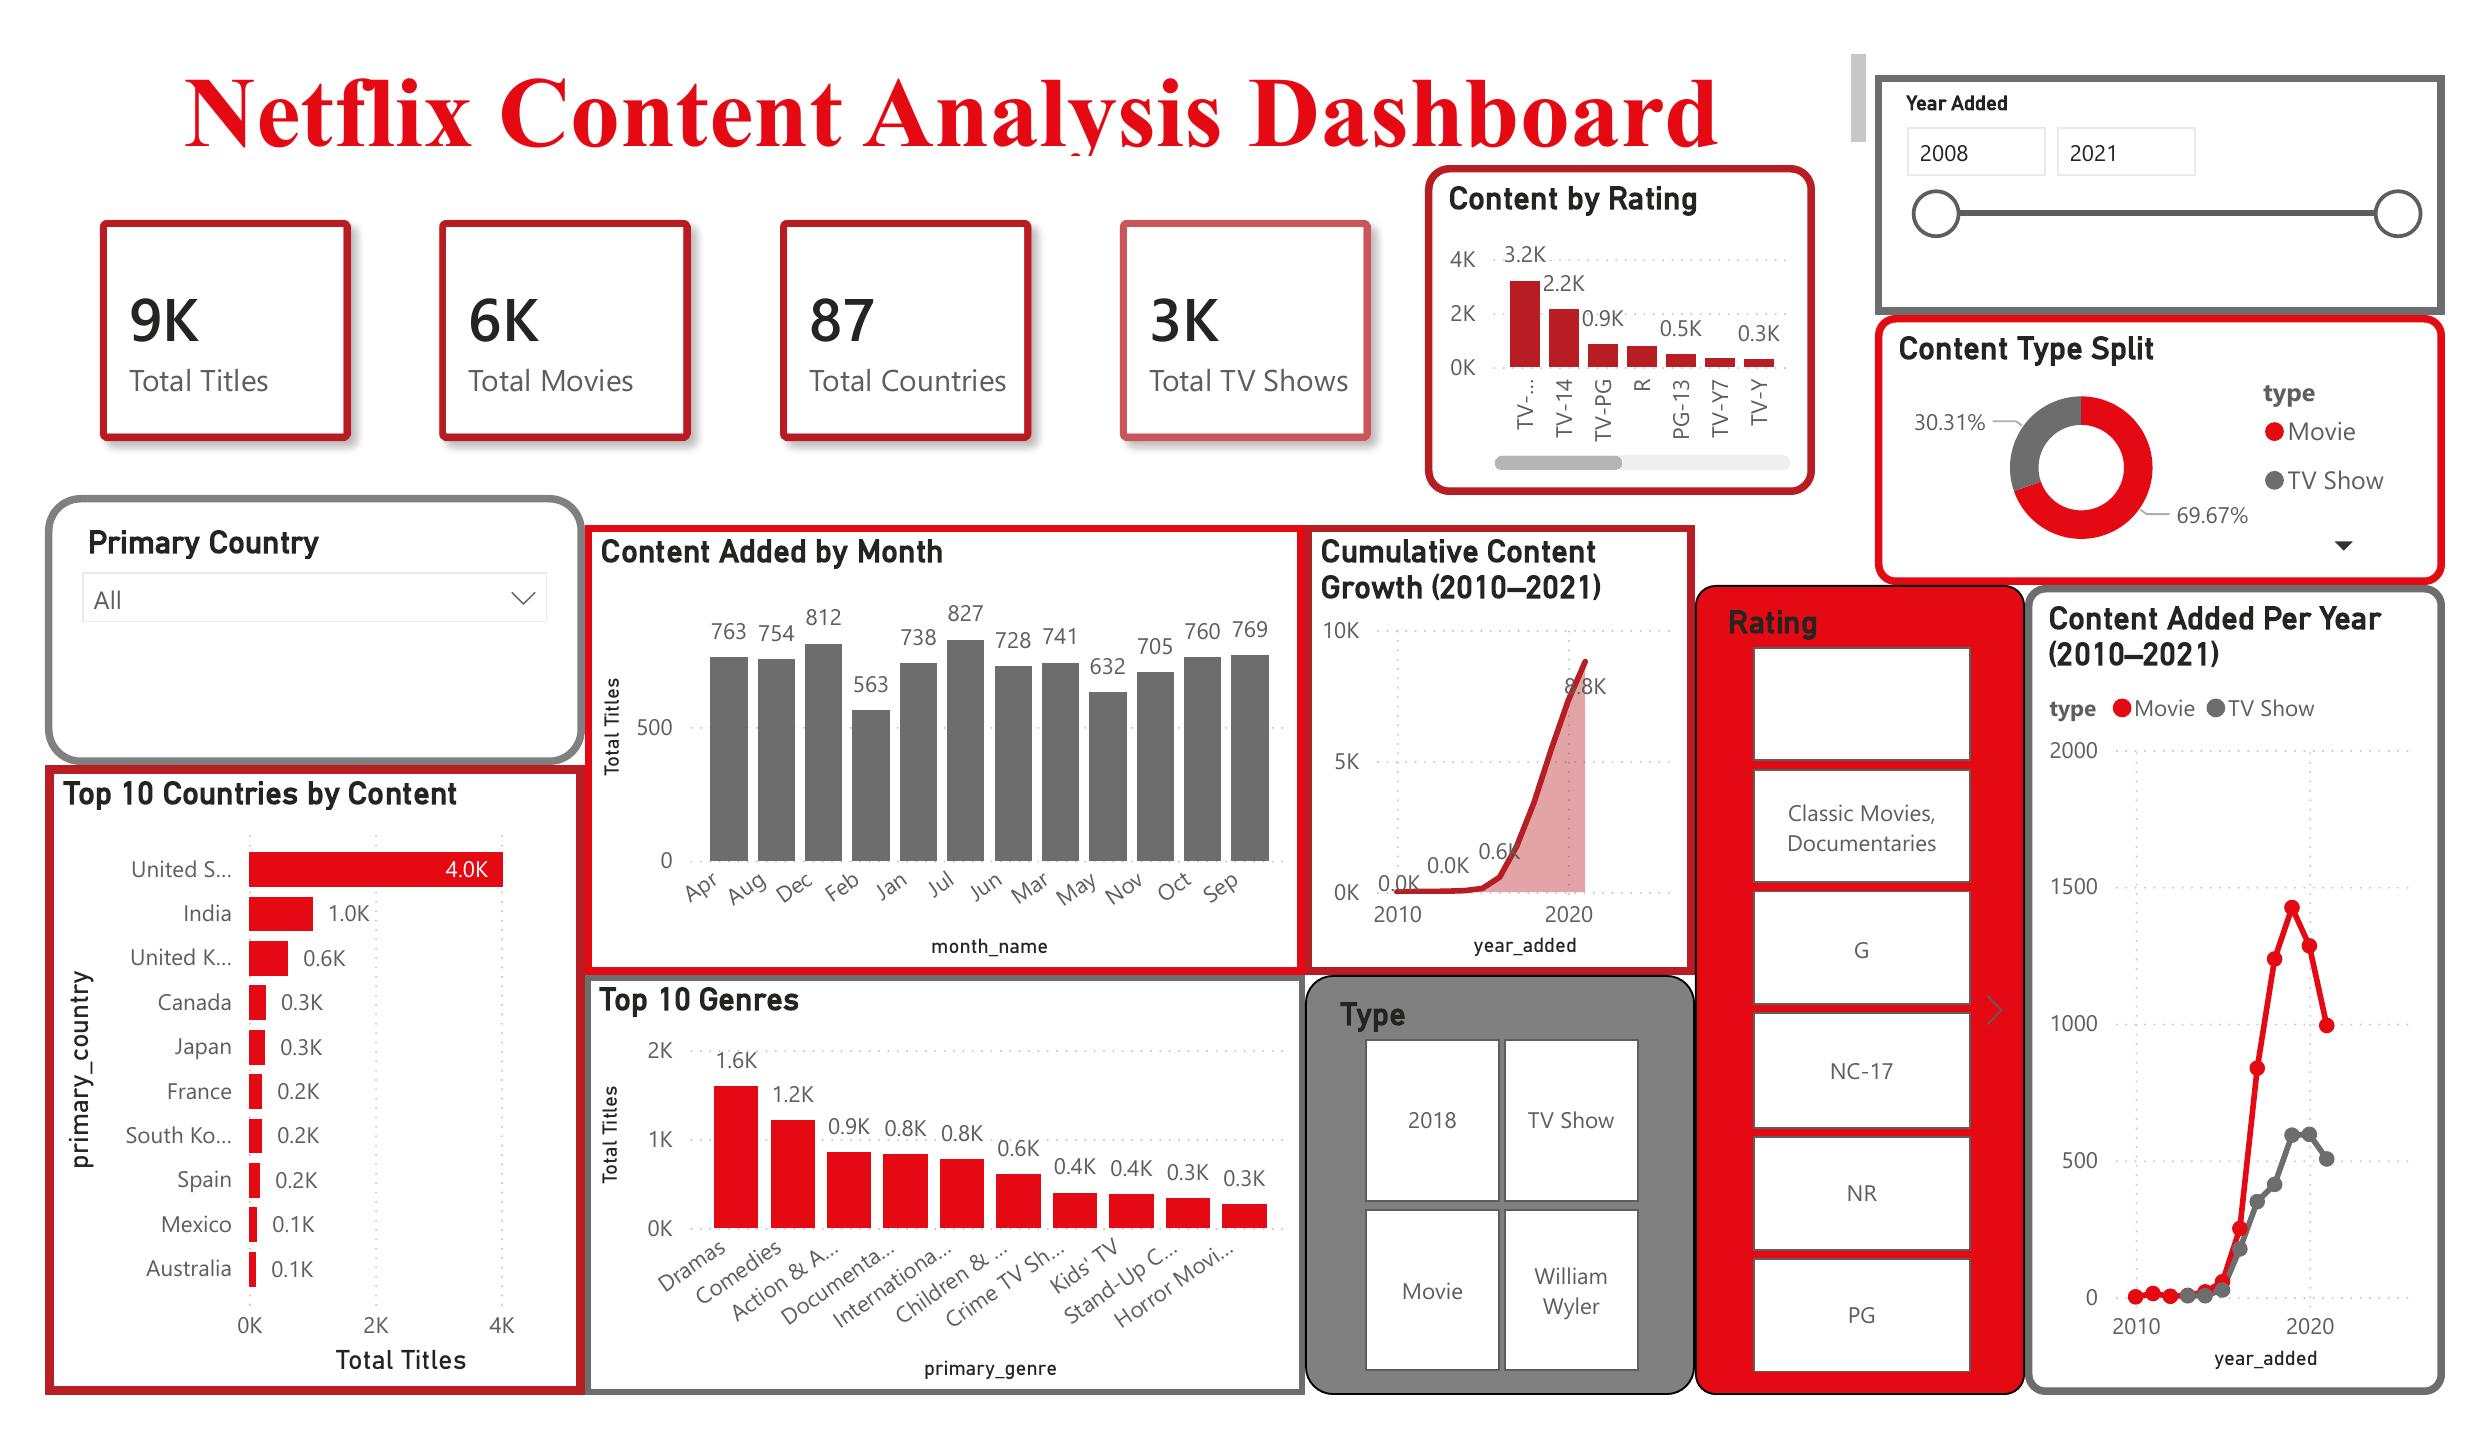

Layout of this report page (visuals, bound fields, positions):
{"tool":"powerbi","page":{"name":"Page 1","canvas":[1280,720],"ordinal":0},"visuals":[{"type":"cardVisual","fields":{"Data":["netflix_cleaned.Total Titles"]},"box":[0,64,192,176],"z":0},{"type":"cardVisual","fields":{"Data":["netflix_cleaned.Total Countries"]},"box":[362.7,64,192,176],"z":1000},{"type":"cardVisual","fields":{"Data":["netflix_cleaned.Total Movies"]},"box":[181.3,64,192,176],"z":2000},{"type":"donutChart","title":"Content Type Split","fields":{"Y":["netflix_cleaned.Total Titles"],"Category":["netflix_cleaned.type"]},"box":[976,144,304,144],"z":3000},{"type":"cardVisual","fields":{"Data":["netflix_cleaned.Total TV Shows"]},"box":[544,64,192,176],"z":4000},{"type":"clusteredBarChart","title":"Top 10 Countries by Content","fields":{"Category":["netflix_cleaned.primary_country"],"Y":["netflix_cleaned.Total Titles"]},"box":[0,384,288,336],"z":5000},{"type":"lineChart","title":"Content Added Per Year (2010–2021)","fields":{"Category":["netflix_cleaned.year_added"],"Y":["netflix_cleaned.Total Titles"],"Series":["netflix_cleaned.type"]},"box":[1056,288,224,432],"z":6000},{"type":"columnChart","title":"Top 10 Genres","fields":{"Category":["netflix_cleaned.primary_genre"],"Y":["netflix_cleaned.Total Titles"]},"box":[288,496,384,224],"z":7000},{"type":"columnChart","title":"Content by Rating","fields":{"Category":["netflix_cleaned.rating"],"Y":["netflix_cleaned.Total Titles"]},"box":[736,64,208,176],"z":8000},{"type":"columnChart","title":"Content Added by Month","fields":{"Category":["netflix_cleaned.month_name"],"Y":["netflix_cleaned.Total Titles"]},"box":[288,256,384,240],"z":9000},{"type":"areaChart","title":"Cumulative Content Growth (2010–2021)","fields":{"Category":["netflix_cleaned.year_added"],"Y":["netflix_cleaned.Cumulative Titles"]},"box":[672,256,208,240],"z":10000},{"type":"textbox","box":[0,0,976,64],"z":10001},{"type":"slicer","fields":{"Values":["netflix_cleaned.rating"]},"box":[880,288,176,432],"z":10002},{"type":"slicer","fields":{"Values":["netflix_cleaned.type"]},"box":[672,496,208,224],"z":10003},{"type":"slicer","fields":{"Values":["netflix_cleaned.primary_country"]},"box":[0,240,288,144],"z":10004},{"type":"slicer","fields":{"Values":["netflix_cleaned.year_added"]},"box":[976,16,304,128],"z":10005}]}

Visuals, with their boxes in screenshot pixels (x1, y1, x2, y2), scaled from the page's 1280x720 canvas onto the 2490x1440 screenshot:
cardVisual - netflix_cleaned.Total Titles: {"left": 0, "top": 128, "right": 374, "bottom": 480}
cardVisual - netflix_cleaned.Total Countries: {"left": 706, "top": 128, "right": 1079, "bottom": 480}
cardVisual - netflix_cleaned.Total Movies: {"left": 353, "top": 128, "right": 726, "bottom": 480}
"Content Type Split" donutChart: {"left": 1899, "top": 288, "right": 2489, "bottom": 576}
cardVisual - netflix_cleaned.Total TV Shows: {"left": 1058, "top": 128, "right": 1432, "bottom": 480}
"Top 10 Countries by Content" clusteredBarChart: {"left": 0, "top": 768, "right": 560, "bottom": 1439}
"Content Added Per Year (2010–2021)" lineChart: {"left": 2054, "top": 576, "right": 2489, "bottom": 1439}
"Top 10 Genres" columnChart: {"left": 560, "top": 992, "right": 1307, "bottom": 1439}
"Content by Rating" columnChart: {"left": 1432, "top": 128, "right": 1836, "bottom": 480}
"Content Added by Month" columnChart: {"left": 560, "top": 512, "right": 1307, "bottom": 992}
"Cumulative Content Growth (2010–2021)" areaChart: {"left": 1307, "top": 512, "right": 1712, "bottom": 992}
textbox: {"left": 0, "top": 0, "right": 1899, "bottom": 128}
slicer - netflix_cleaned.rating: {"left": 1712, "top": 576, "right": 2054, "bottom": 1439}
slicer - netflix_cleaned.type: {"left": 1307, "top": 992, "right": 1712, "bottom": 1439}
slicer - netflix_cleaned.primary_country: {"left": 0, "top": 480, "right": 560, "bottom": 768}
slicer - netflix_cleaned.year_added: {"left": 1899, "top": 32, "right": 2489, "bottom": 288}
